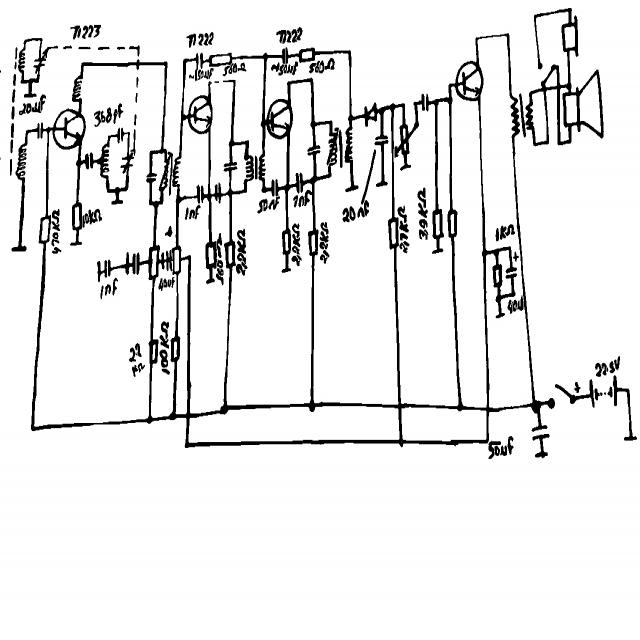capacitor: (96, 255, 115, 283), (131, 249, 143, 284), (531, 424, 550, 442), (308, 229, 319, 257), (298, 46, 315, 63), (306, 141, 322, 158), (374, 133, 391, 147), (222, 160, 238, 174), (280, 46, 291, 65), (84, 152, 94, 172), (214, 181, 222, 205), (421, 92, 430, 113), (270, 178, 279, 198), (196, 184, 204, 206), (296, 172, 304, 194), (196, 51, 205, 70), (36, 121, 44, 141), (506, 266, 518, 279), (146, 172, 158, 184), (116, 126, 124, 144)
crossover: (397, 402, 404, 411), (485, 405, 491, 413), (186, 412, 191, 419)
diode: (364, 103, 378, 128)
ground: (534, 450, 549, 460), (344, 185, 359, 193), (70, 240, 84, 247), (400, 163, 412, 171), (111, 199, 124, 206), (495, 312, 506, 320), (376, 181, 388, 188), (431, 248, 444, 254), (281, 267, 292, 273), (206, 277, 215, 284)
junction: (531, 400, 542, 414), (308, 400, 316, 413), (495, 293, 502, 304), (146, 416, 154, 425), (310, 175, 317, 185), (625, 385, 632, 395), (221, 405, 228, 414), (457, 403, 464, 412), (227, 188, 234, 197), (170, 411, 176, 421), (76, 158, 82, 168), (310, 119, 316, 128), (228, 139, 234, 148), (398, 438, 404, 447), (30, 424, 36, 433), (448, 95, 454, 104), (180, 113, 186, 122), (434, 97, 440, 106), (494, 248, 500, 257), (482, 249, 488, 257), (348, 114, 354, 122), (532, 12, 538, 20), (474, 35, 480, 43), (286, 79, 292, 87), (390, 103, 396, 111), (158, 147, 164, 155), (124, 185, 130, 193), (413, 99, 418, 108), (176, 196, 181, 205), (262, 53, 268, 60), (556, 140, 562, 147), (114, 187, 120, 194), (244, 139, 250, 146), (28, 77, 34, 84), (184, 441, 189, 449), (401, 101, 406, 109), (447, 81, 452, 89), (567, 7, 572, 15), (39, 35, 44, 43), (153, 200, 158, 208), (25, 128, 30, 136), (232, 78, 238, 84), (545, 139, 550, 146), (149, 149, 154, 156), (567, 138, 572, 145), (347, 48, 352, 55), (532, 141, 537, 148), (182, 57, 187, 64), (23, 38, 28, 45), (149, 200, 154, 207), (328, 119, 333, 126), (80, 61, 85, 67), (243, 188, 248, 194), (207, 80, 212, 86), (188, 254, 192, 261), (506, 32, 510, 39), (164, 60, 168, 67), (310, 77, 314, 84), (328, 173, 332, 180), (106, 188, 110, 194), (508, 246, 512, 252)
resistor: (394, 122, 414, 161), (13, 143, 29, 181), (561, 21, 578, 55), (148, 242, 161, 282), (34, 49, 50, 81), (120, 148, 136, 175), (38, 215, 52, 245), (99, 143, 110, 180), (71, 73, 84, 104), (432, 209, 444, 241), (169, 246, 182, 274), (209, 54, 234, 68), (148, 336, 160, 365), (281, 227, 292, 258), (71, 202, 82, 232), (388, 217, 398, 249), (206, 242, 217, 270), (224, 241, 235, 267), (170, 335, 180, 363), (492, 264, 503, 287), (18, 48, 26, 74)
source: (587, 374, 620, 408), (622, 433, 638, 444), (11, 243, 28, 253)
switch: (266, 95, 294, 142), (548, 381, 576, 409), (535, 54, 555, 81)
text: (92, 103, 124, 129), (396, 205, 411, 256), (487, 435, 515, 460), (341, 199, 370, 223), (128, 341, 146, 379), (236, 228, 249, 277), (417, 187, 429, 240), (159, 319, 170, 375), (50, 208, 62, 256), (594, 356, 620, 377), (70, 23, 102, 40), (308, 56, 336, 75), (276, 26, 303, 45), (98, 276, 119, 300), (291, 223, 302, 267), (270, 60, 300, 76), (319, 221, 330, 264), (186, 32, 215, 48), (257, 195, 281, 214), (216, 230, 224, 286), (184, 204, 204, 226), (20, 98, 46, 114), (221, 61, 247, 77), (189, 67, 216, 82), (82, 208, 103, 227), (292, 187, 311, 208), (507, 294, 525, 316), (496, 224, 516, 243), (157, 275, 176, 291)
transformer: (508, 89, 536, 139), (326, 125, 356, 167), (157, 151, 184, 195), (243, 153, 266, 183)
transistor: (52, 106, 88, 154), (454, 58, 485, 104), (188, 92, 214, 135)
